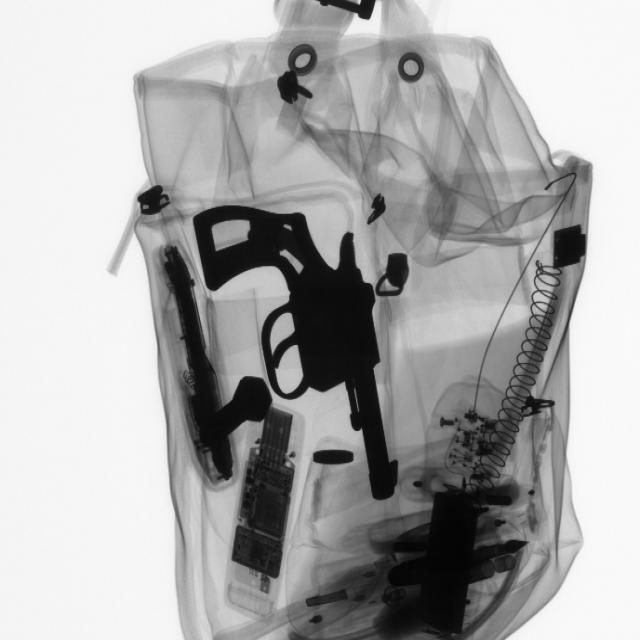GUN: (189, 213, 404, 504)
